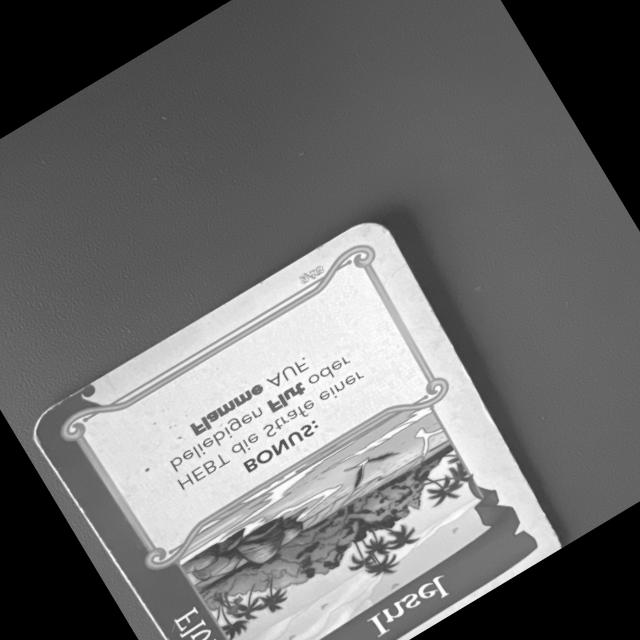Island: (25, 209, 566, 640)
